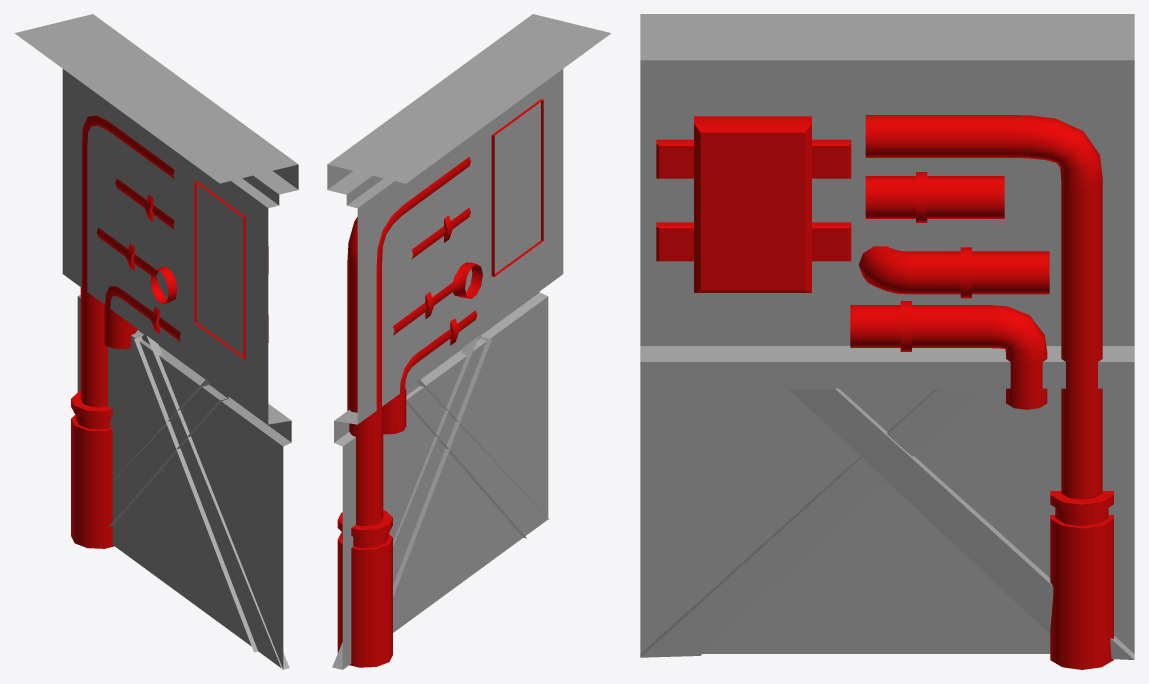
The model's file is WallSide.fbx.
3 renders of one model, left to right at view 1: azimuth 30°, elevation 25°; view 2: azimuth 150°, elevation 25°; view 3: azimuth 270°, elevation 25°, orthographic. The views are drawn at different scales.
Visible parts, largest first — view 1: Wall, PipeLarge, PipeCorner, PipeEnd, PowerBox, PipeStaight; view 2: Wall, PipeLarge, PipeCorner, PipeEnd, PowerBox, PipeStaight; view 3: Wall, PipeLarge, PowerBox, PipeCorner, PipeEnd, PipeStaight.
Boxes of the visible parts, x1,y1,x2,y2 form: Wall: (14,14,298,669); PipeLarge: (71,115,174,548); PipeCorner: (104,286,180,349); PipeEnd: (96,227,177,304); PowerBox: (194,181,268,358); PipeStaight: (115,178,174,229); Wall: (327,14,611,669); PipeLarge: (337,156,470,667); PipeCorner: (383,310,477,434); PipeEnd: (393,262,482,335); PowerBox: (491,99,543,276); PipeStaight: (412,207,470,258); Wall: (640,14,1134,659); PipeLarge: (865,115,1113,669); PowerBox: (656,116,851,292); PipeCorner: (850,301,1047,409); PipeEnd: (858,246,1049,298); PipeStaight: (865,172,1004,222).
Size of the model in its own units: 0.6426 by 3.57 by 2.64.
